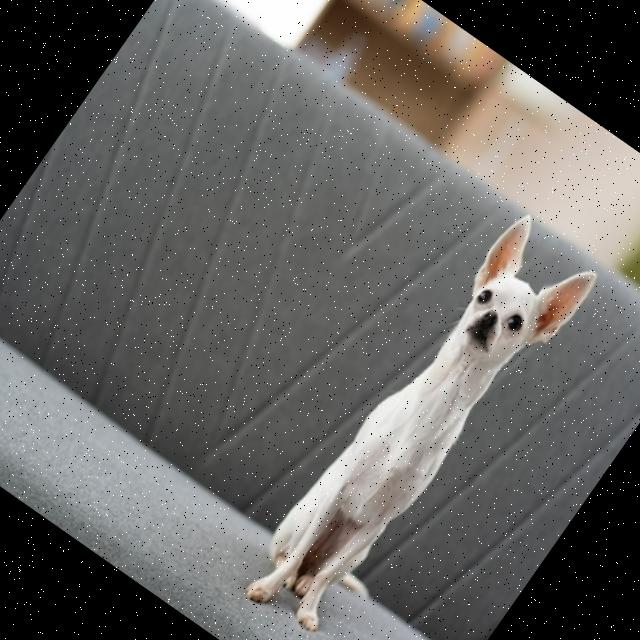Dog: (234, 199, 605, 640)
